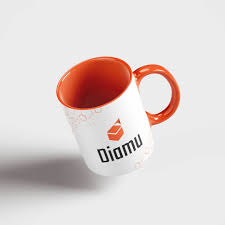mug: (56, 40, 193, 190)
